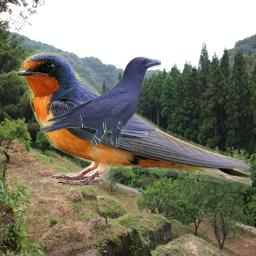Crow: (39, 56, 161, 155)
Swallow: (11, 48, 252, 194)
